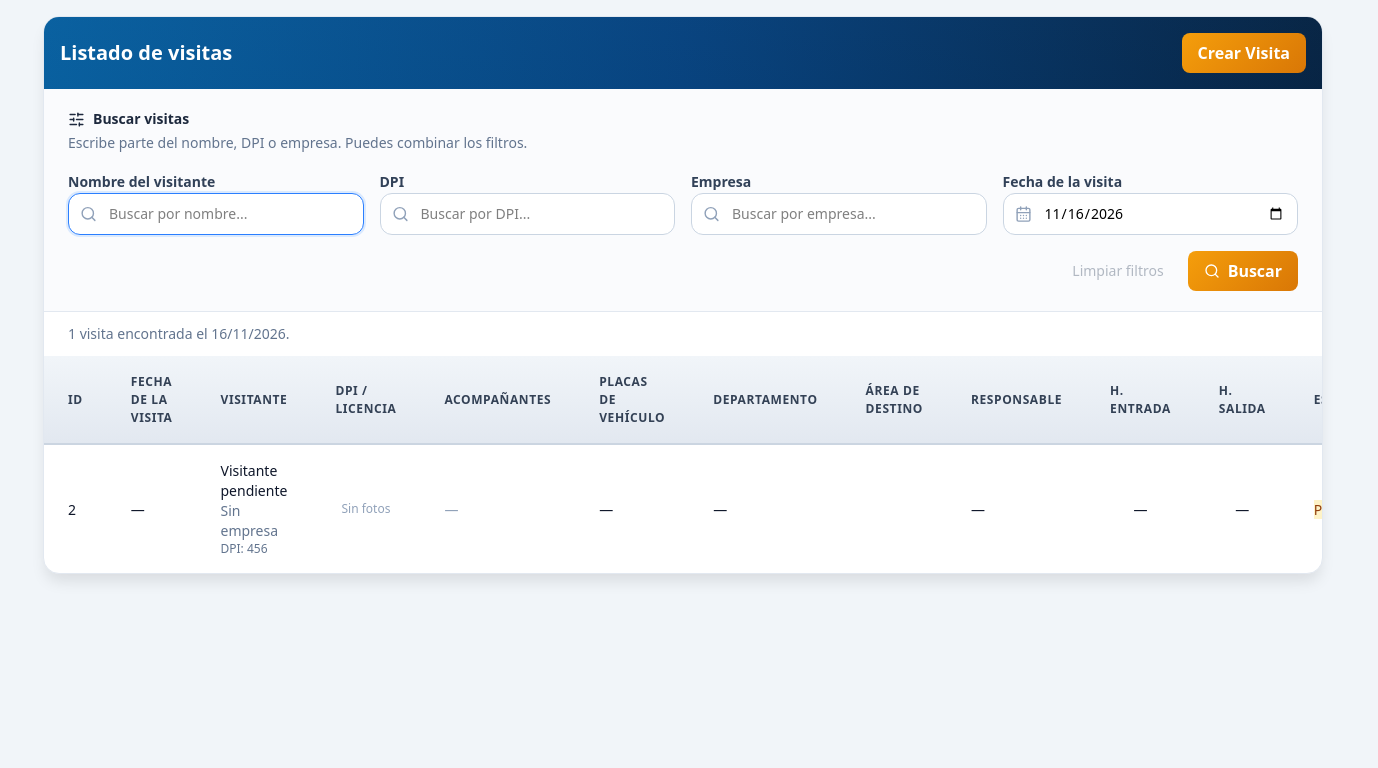
Test: vigencia del estado de las visitas › permite seguir escribiendo en Buscar por nombre... mientras se consulta el filtro
The width and height of the screenshot is (1378, 768).
Later steps or results of the test are not shown.
Type "V" into the field with placeholder "Buscar por nombre..." at (216, 214), box [68,193,364,235]
Wait 450 ms
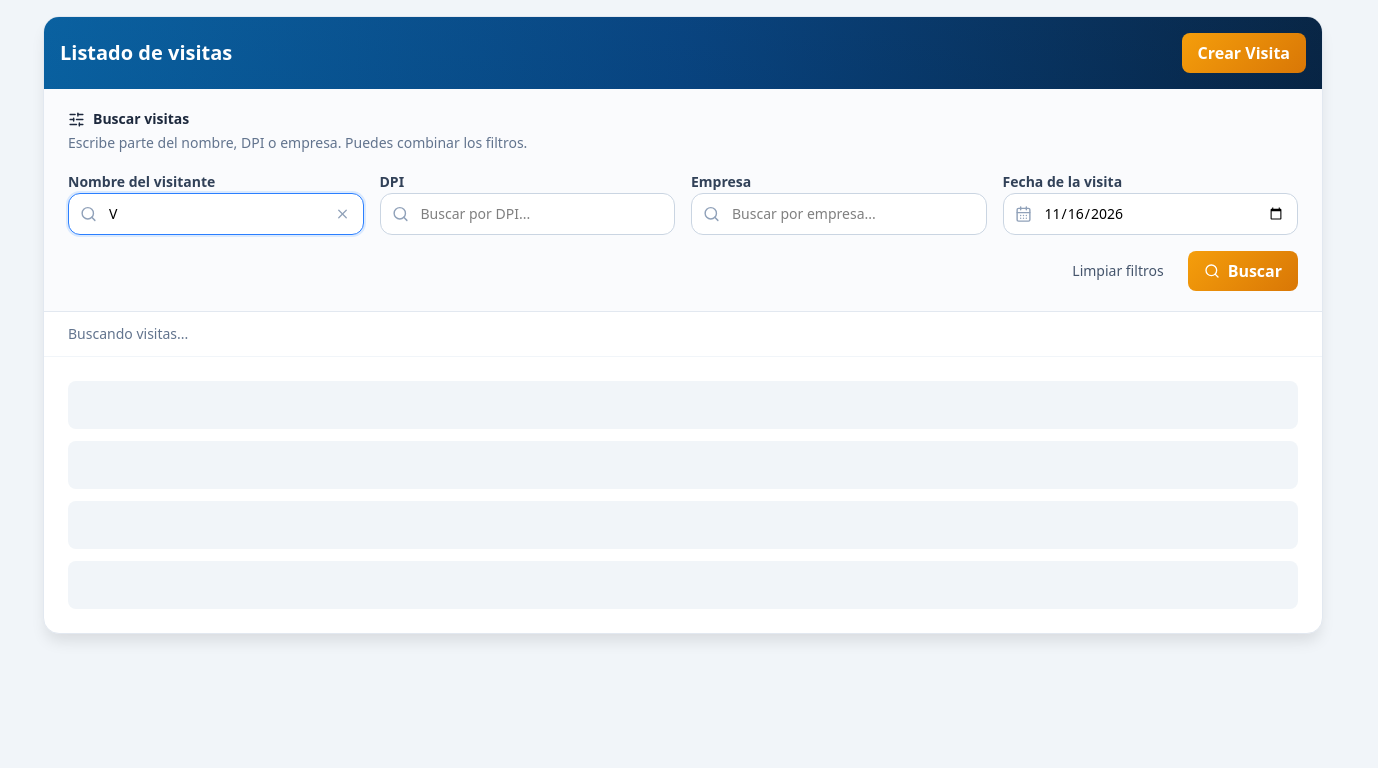
Now the message reads "Buscando visitas...", box [68,324,188,343]
